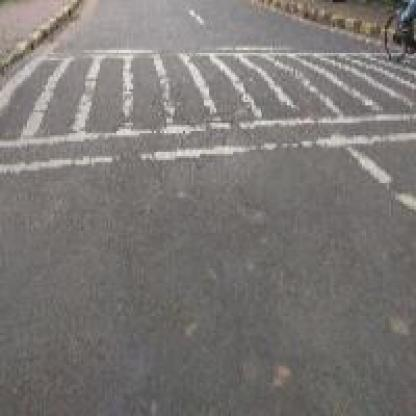Speed Bump: (0, 44, 379, 176)
